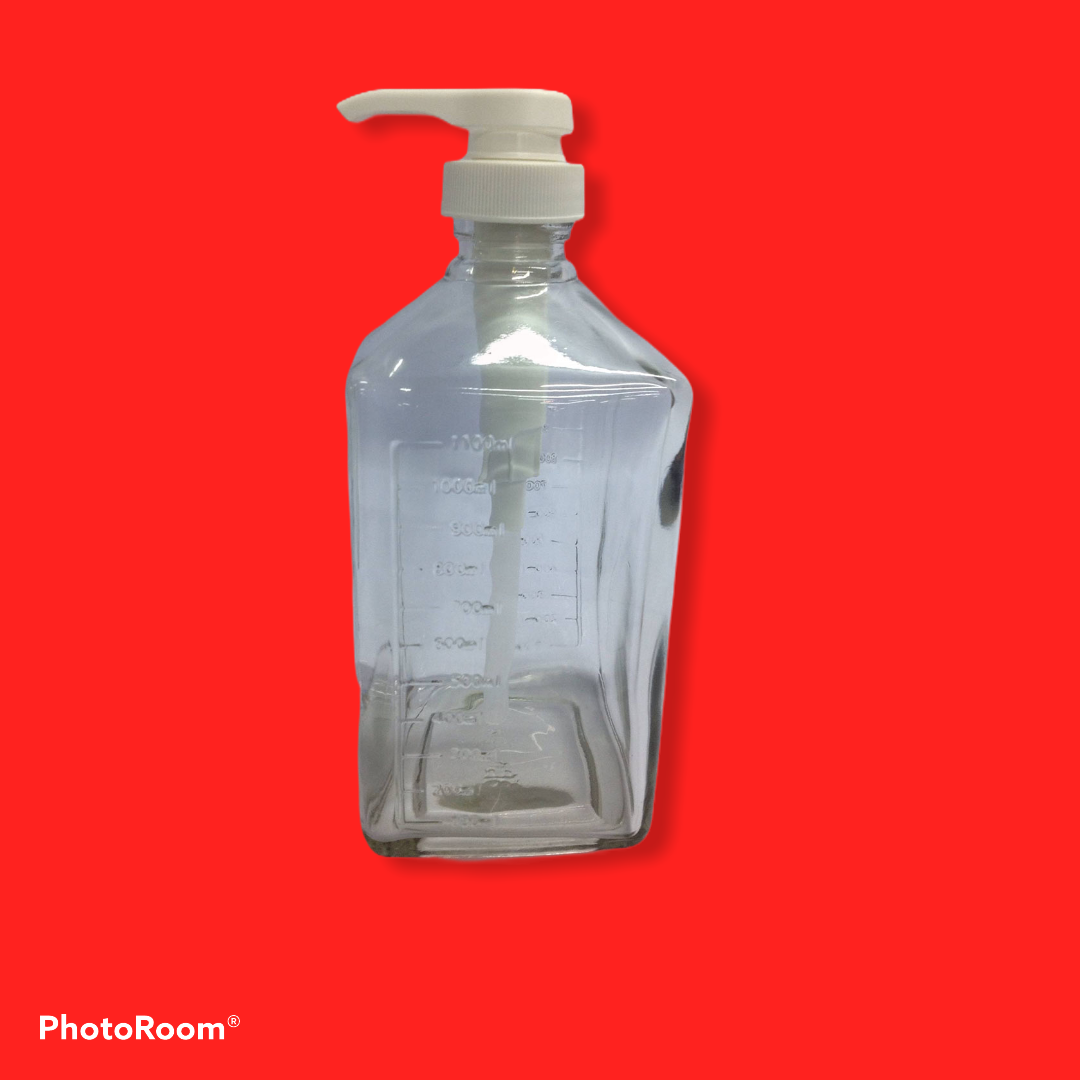glass_bottleww: (263, 5, 781, 1008)
